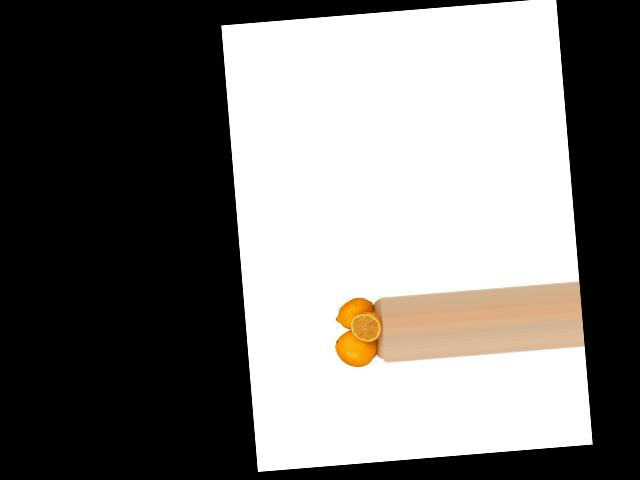lemon: (333, 294, 379, 330)
